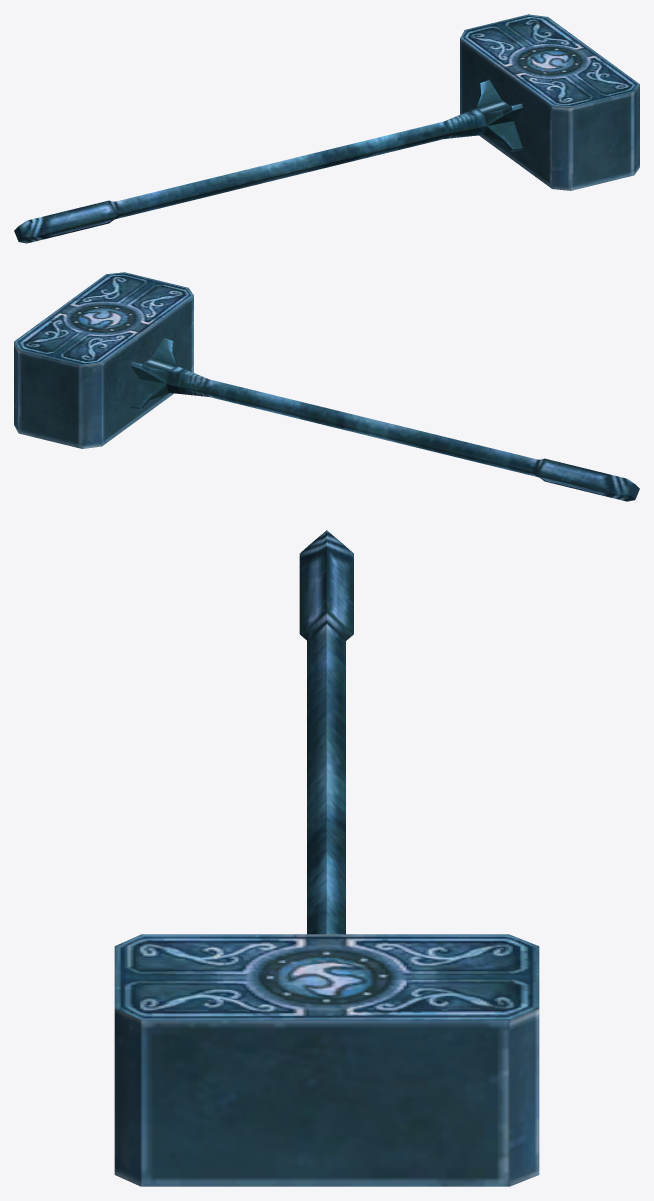
File: common_righthanditem_10047.obj
3 renders of one model, top to bottom at view 1: azimuth 30°, elevation 25°; view 2: azimuth 150°, elevation 25°; view 3: azimuth 270°, elevation 25°, orthographic. The views are drawn at different scales.
Visible parts, largest first — view 1: common_RightHandItem_11040; view 2: common_RightHandItem_11040; view 3: common_RightHandItem_11040.
Boxes of the visible parts, x1=… form: common_RightHandItem_11040: x1=14, y1=14, x2=639, y2=243; common_RightHandItem_11040: x1=14, y1=272, x2=639, y2=501; common_RightHandItem_11040: x1=114, y1=530, x2=539, y2=1186.
Bounding box in the file's own units: 60.02 × 8.31 × 19.18.
1 material, 1 textured.
